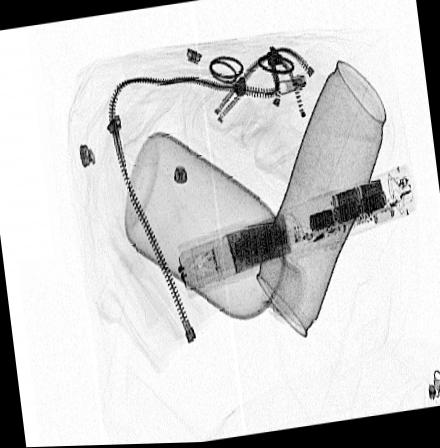Baton: (172, 165, 417, 300)
